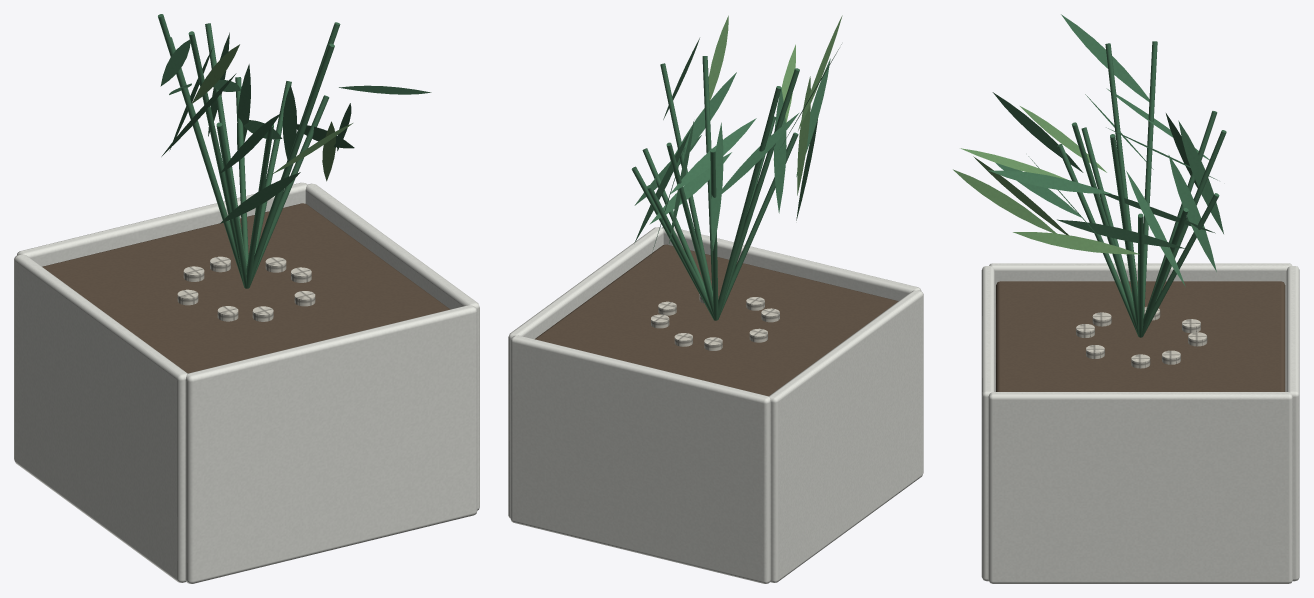
Rendered from detail-plant-square-0.glb.
3 views of the same model, side by side, from view 1: azimuth 30°, elevation 25°; view 2: azimuth 150°, elevation 25°; view 3: azimuth 270°, elevation 25° (orthographic). The views are drawn at different scales.
Parts seen in each view (by area): view 1: pot_wall (×4), soil_surface, plant_stem (×9), leaf_blade (×5); view 2: pot_wall (×4), soil_surface, plant_stem (×10), leaf_blade (×10); view 3: pot_wall (×4), soil_surface, leaf_blade (×13), plant_stem (×11).
Part boxes in pixels (left/top/right/bottom): pot_wall (×4): left=14, top=182, right=479, bottom=583; soil_surface: left=42, top=203, right=450, bottom=373; plant_stem (×9): left=158, top=14, right=334, bottom=288; leaf_blade (×5): left=192, top=44, right=300, bottom=223; pot_wall (×4): left=508, top=227, right=923, bottom=583; soil_surface: left=535, top=244, right=898, bottom=396; plant_stem (×10): left=631, top=56, right=799, bottom=320; leaf_blade (×10): left=649, top=15, right=842, bottom=250; pot_wall (×4): left=981, top=263, right=1299, bottom=583; soil_surface: left=996, top=281, right=1285, bottom=391; leaf_blade (×13): left=953, top=14, right=1223, bottom=286; plant_stem (×11): left=1057, top=41, right=1226, bottom=337.
Bounding box in the file's own units: 0.835 × 1.35 × 0.9123.
5 materials, 5 textured.
